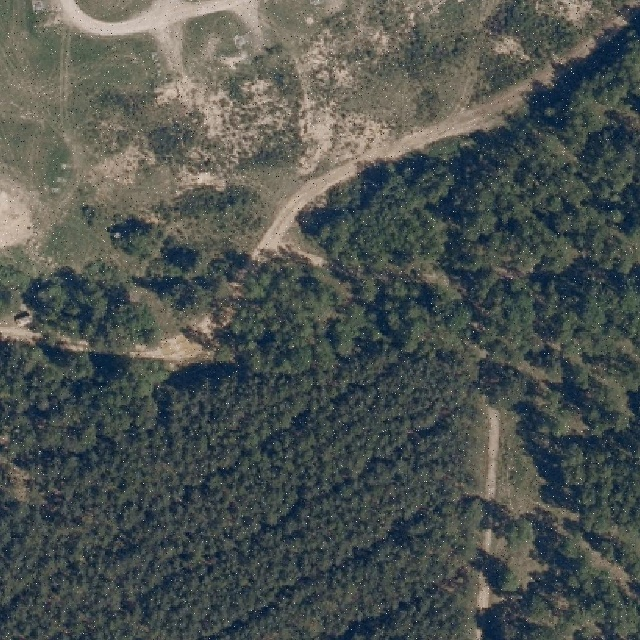vegetation: (297, 4, 640, 640), (0, 250, 491, 640), (106, 191, 265, 326), (21, 264, 161, 346)
